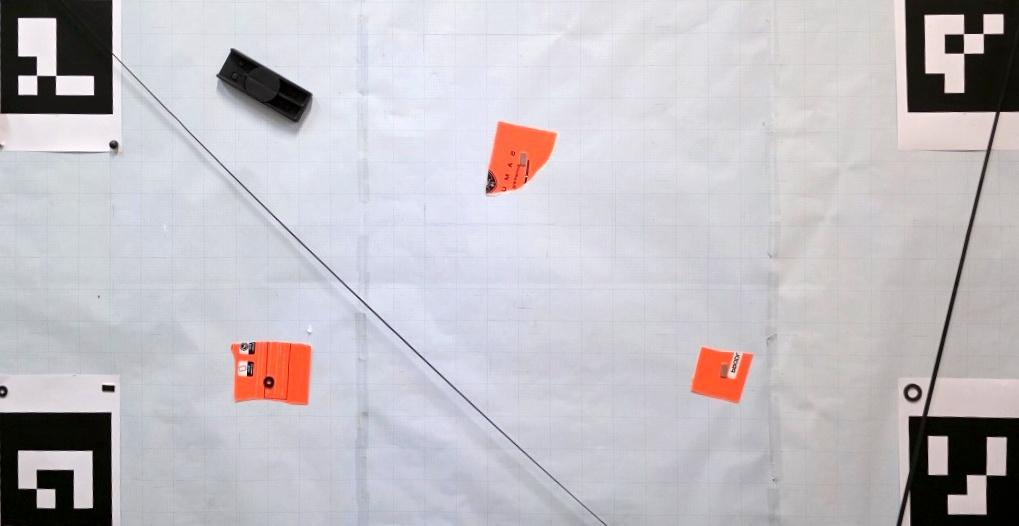obstacle: (216, 48, 312, 122), (484, 120, 557, 195), (231, 341, 311, 405), (690, 346, 753, 404)
